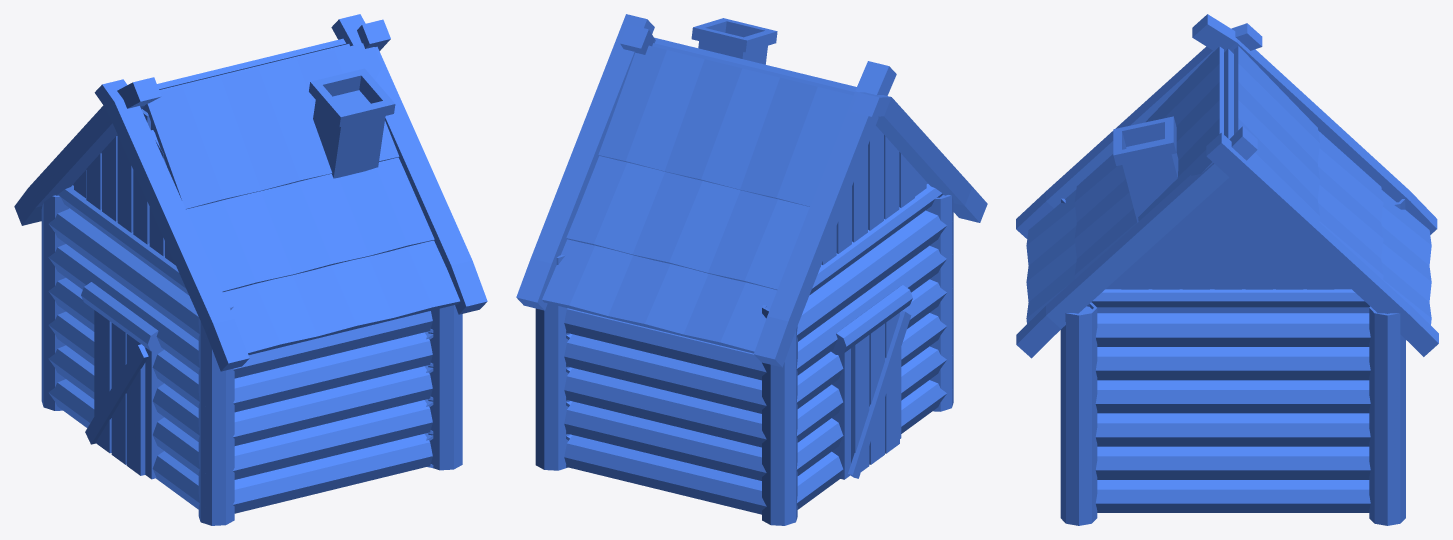
Rendered from House_Variant3.fbx.
3 views of the same model, side by side, from view 1: azimuth 30°, elevation 25°; view 2: azimuth 150°, elevation 25°; view 3: azimuth 270°, elevation 25° (orthographic).
Visible parts, largest first — view 1: House_Variant3; view 2: House_Variant3; view 3: House_Variant3.
Boxes of the visible parts, left/top/right/bottom form: House_Variant3: left=14, top=14, right=487, bottom=525; House_Variant3: left=516, top=14, right=987, bottom=525; House_Variant3: left=1016, top=14, right=1438, bottom=525.
Size of the model in its own units: 266 by 366 by 363.
